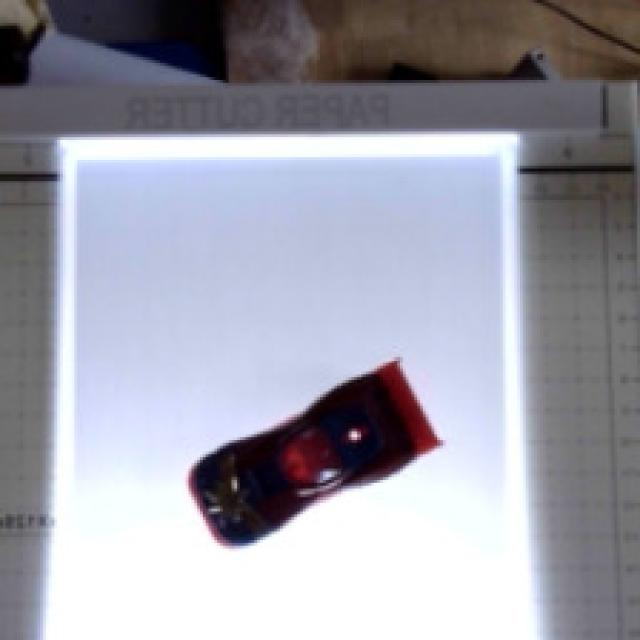Red Car: (136, 341, 501, 540)
